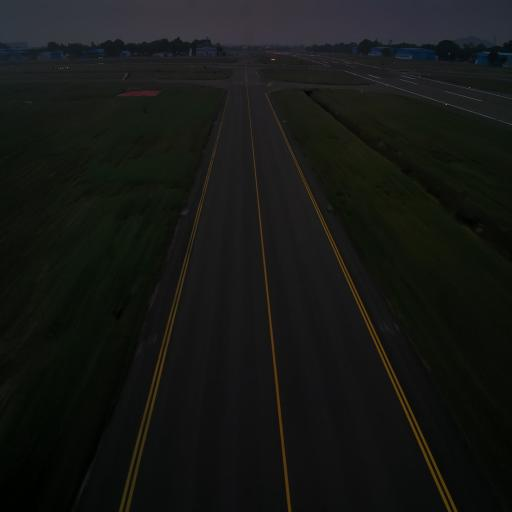on: (328, 203, 332, 210), (184, 207, 188, 213), (215, 119, 217, 123), (284, 118, 285, 122)
